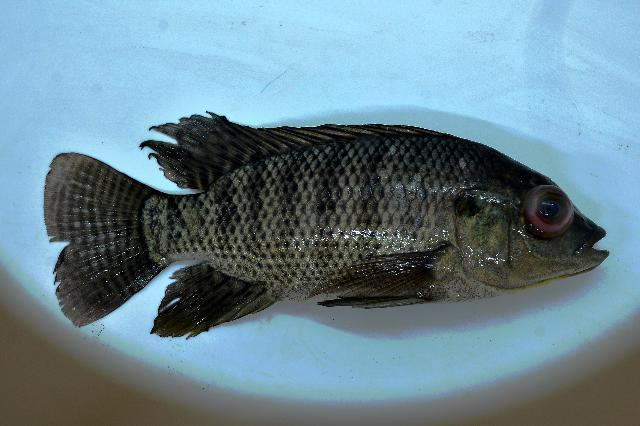Streptococcus: (44, 112, 609, 337)
